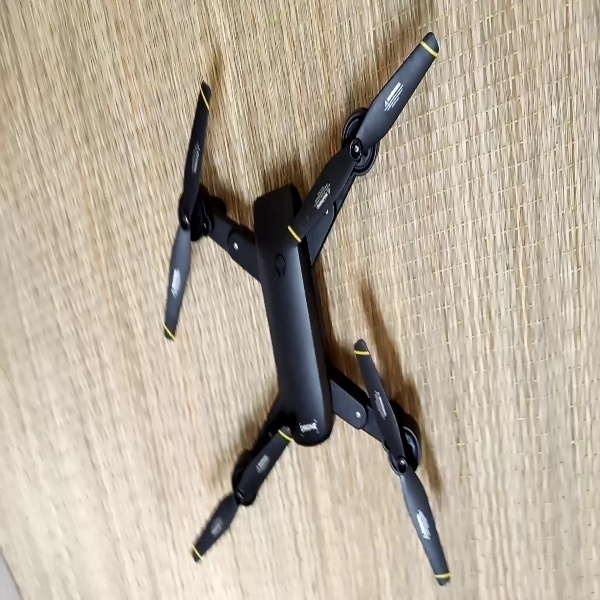drone: (159, 31, 456, 590)
